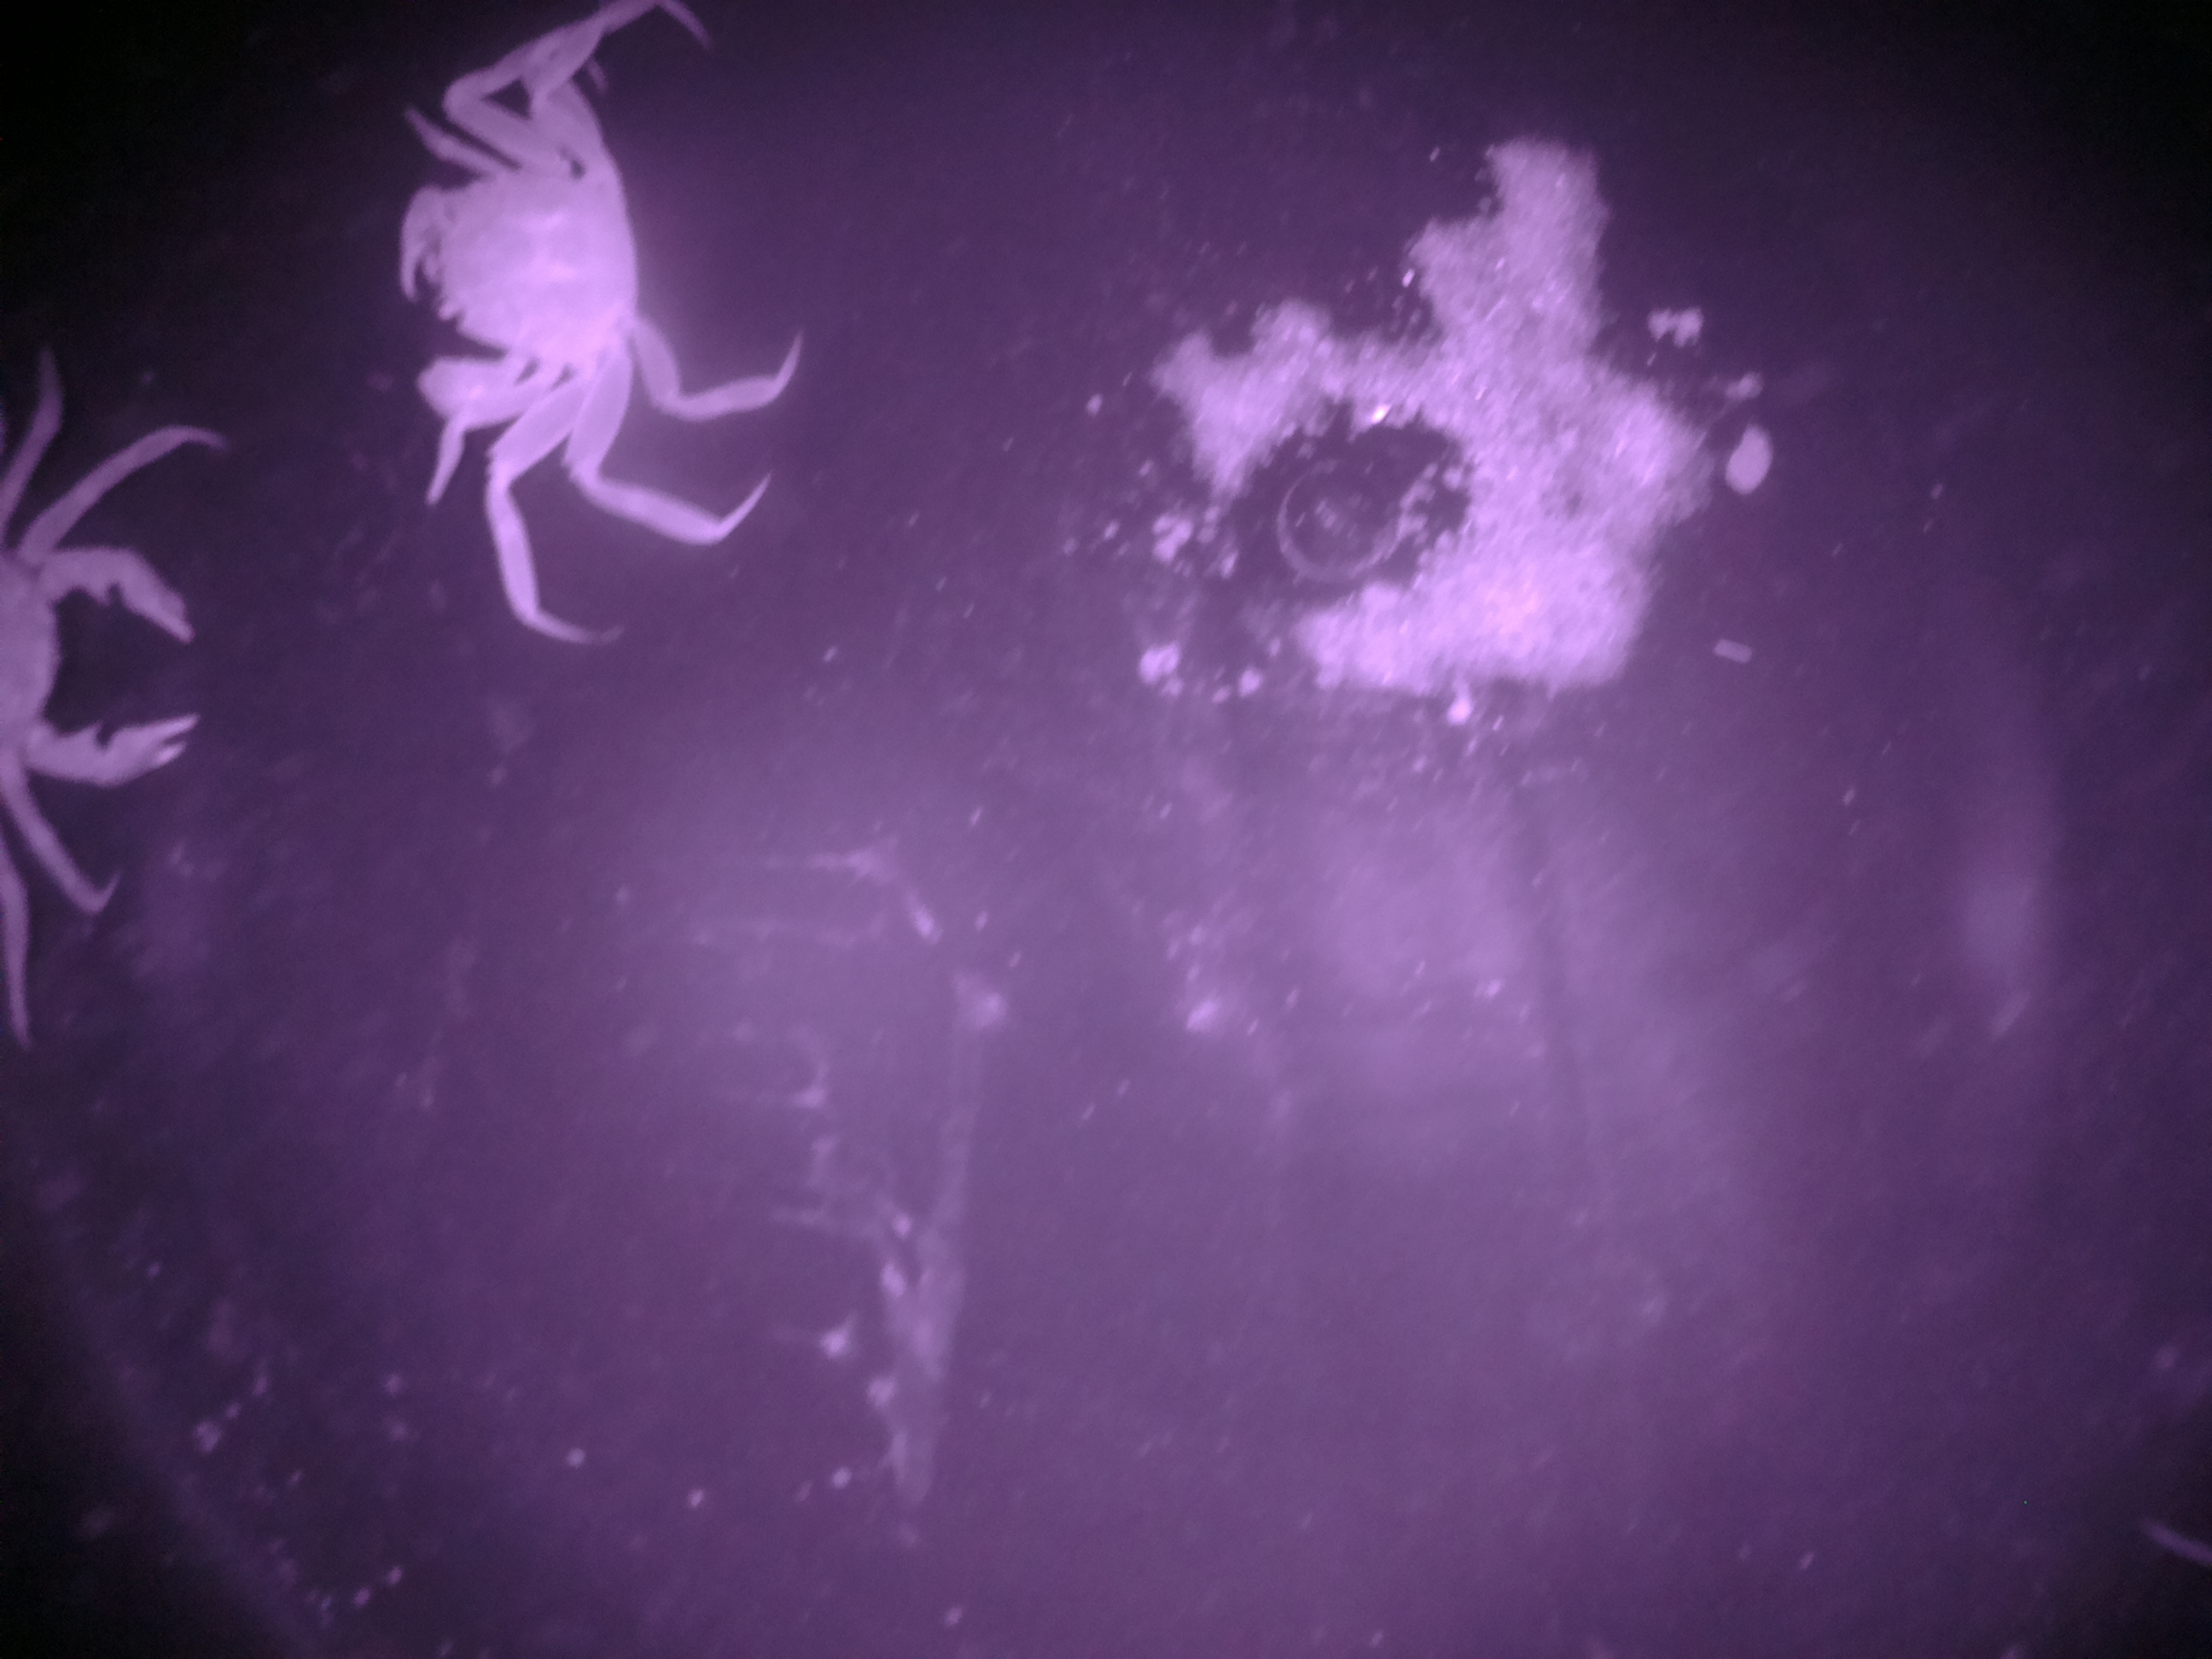Crab: (361, 26, 777, 563)
